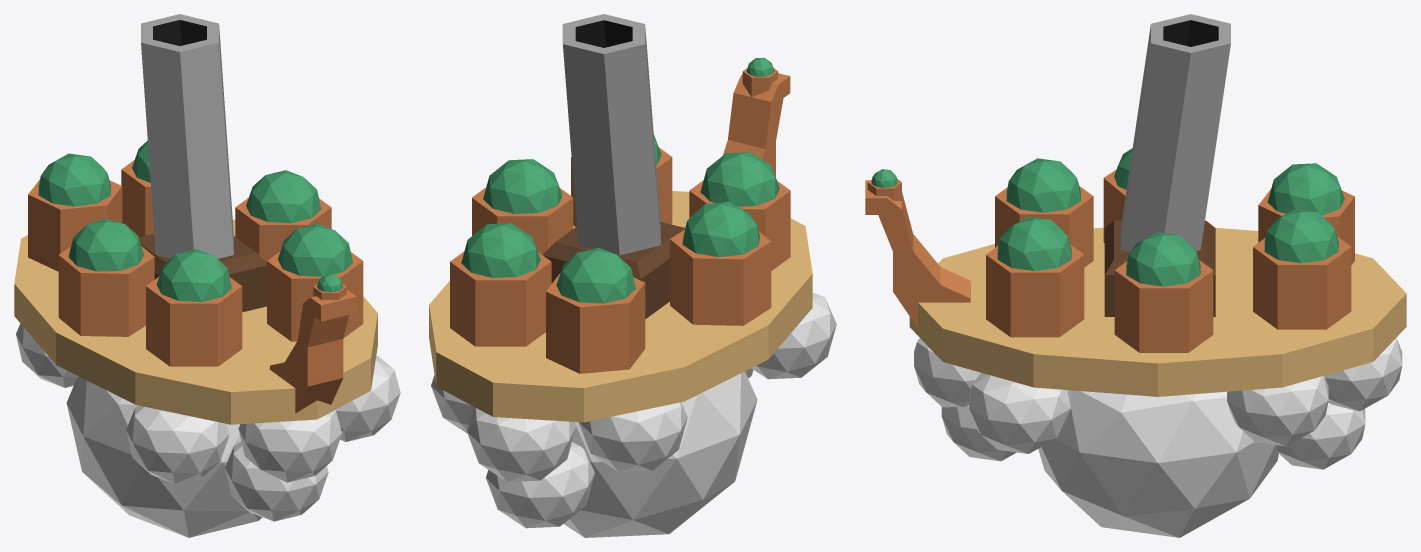
File: enemy.fbx
3 views of the same model, side by side, from view 1: azimuth 30°, elevation 25°; view 2: azimuth 150°, elevation 25°; view 3: azimuth 270°, elevation 25° (orthographic). The views are drawn at different scales.
Parts seen in each view (by area): view 1: Top, Bags_1; view 2: Top, Bags_1; view 3: Top, Bags_1.
Part boxes in pixels (x1=…): Top: x1=14, y1=14, x2=377, y2=424; Bags_1: x1=16, y1=323, x2=400, y2=537; Top: x1=429, y1=14, x2=812, y2=422; Bags_1: x1=431, y1=292, x2=836, y2=537; Top: x1=865, y1=14, x2=1406, y2=396; Bags_1: x1=914, y1=338, x2=1402, y2=537.
Size of the model in its own units: 36 by 59.24 by 58.8.
